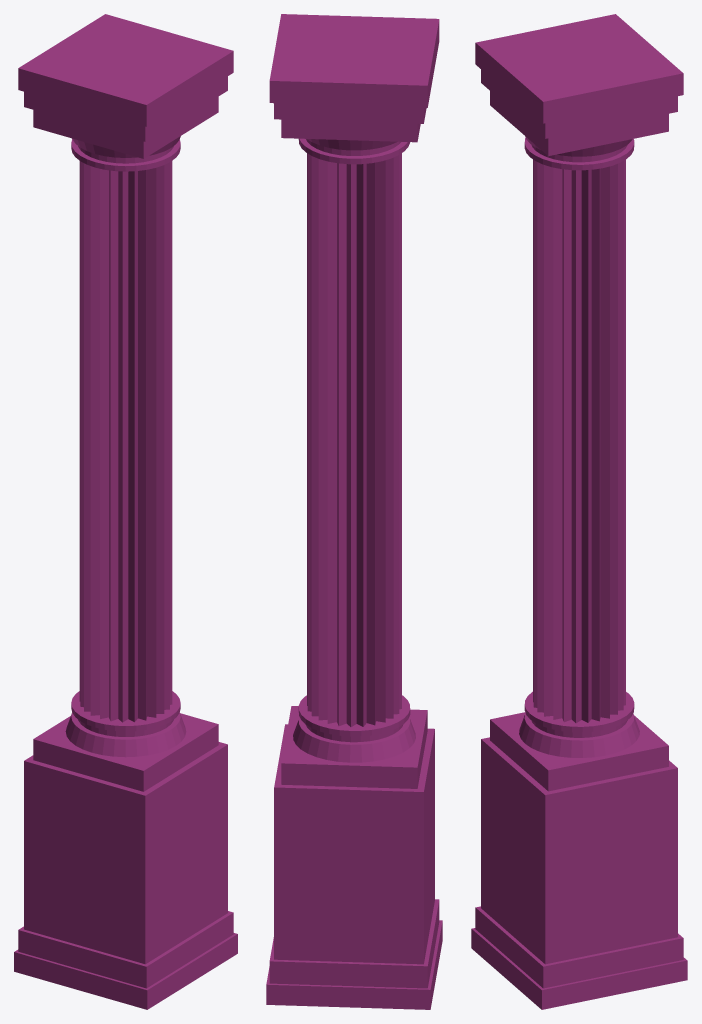
File: Pilar morado.fbx
The picture shows the model from 3 angles, left to right: view 1: azimuth 30°, elevation 25°; view 2: azimuth 150°, elevation 25°; view 3: azimuth 270°, elevation 25°; orthographic projection. The views are drawn at different scales.
Parts seen in each view (by area): view 1: Cube.001; view 2: Cube.001; view 3: Cube.001.
Boxes of the visible parts, x1=… form: Cube.001: x1=14, y1=14, x2=237, y2=1009; Cube.001: x1=266, y1=14, x2=442, y2=1009; Cube.001: x1=471, y1=14, x2=687, y2=1009.
Bounding box in the file's own units: 128 × 592 × 128.
